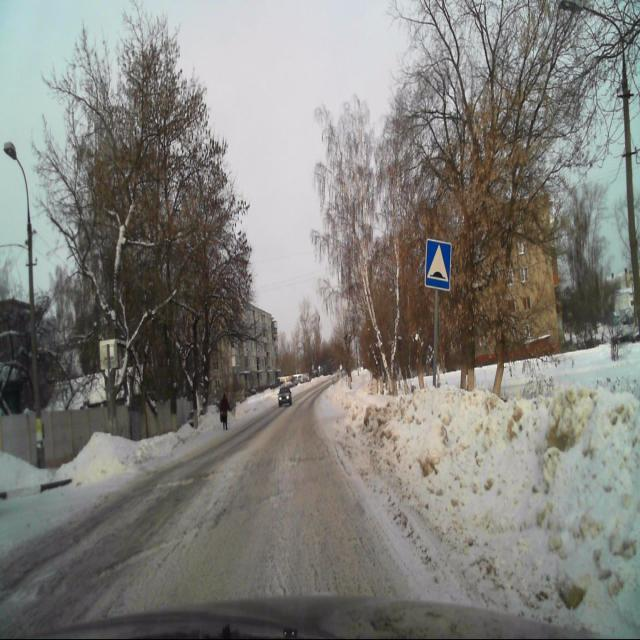object: (432, 292, 437, 390)
road sign: (424, 238, 451, 292)
